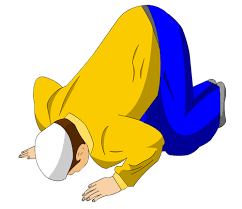sujud: (19, 4, 226, 204)
